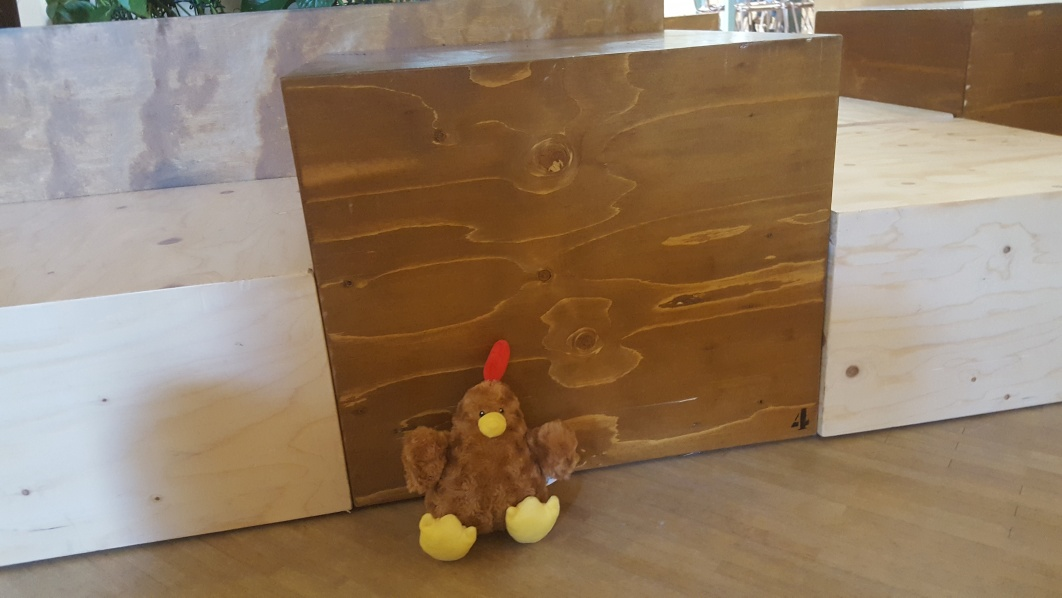chicken: (398, 338, 580, 563)
